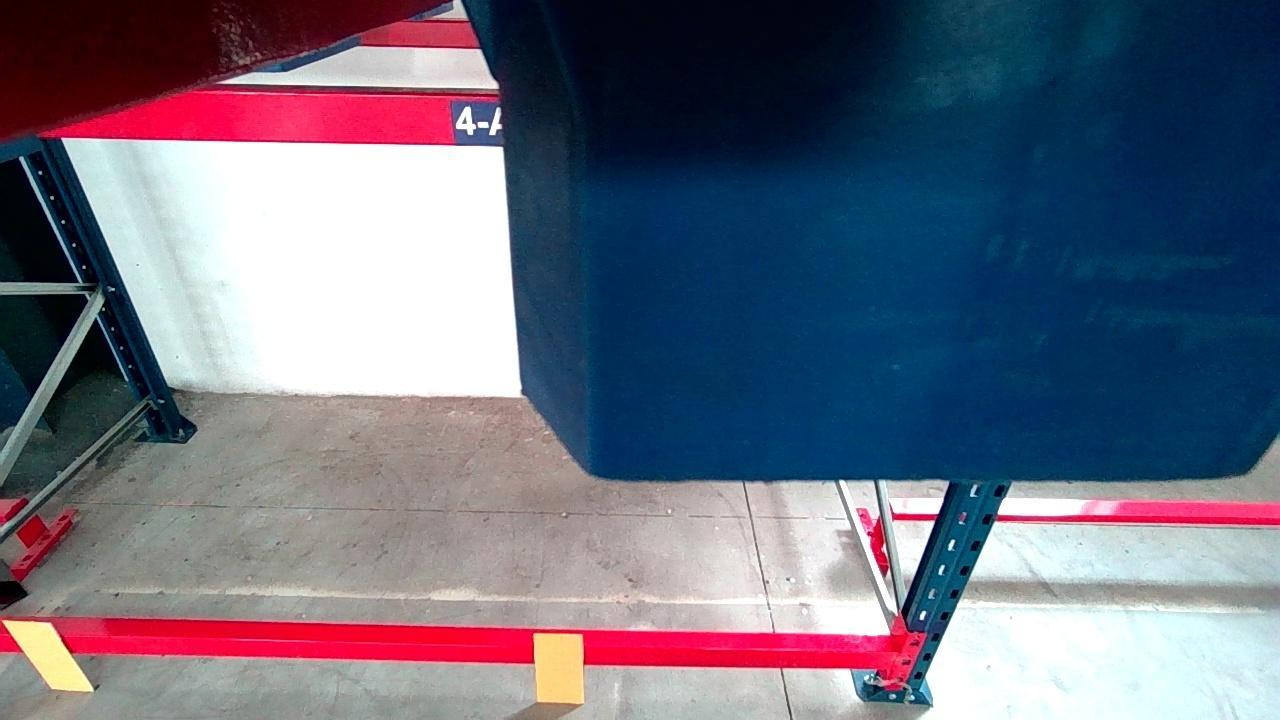h_rack: (0, 626, 896, 666), (54, 95, 498, 140)
orange_strip: (4, 620, 91, 688), (535, 635, 583, 703)
